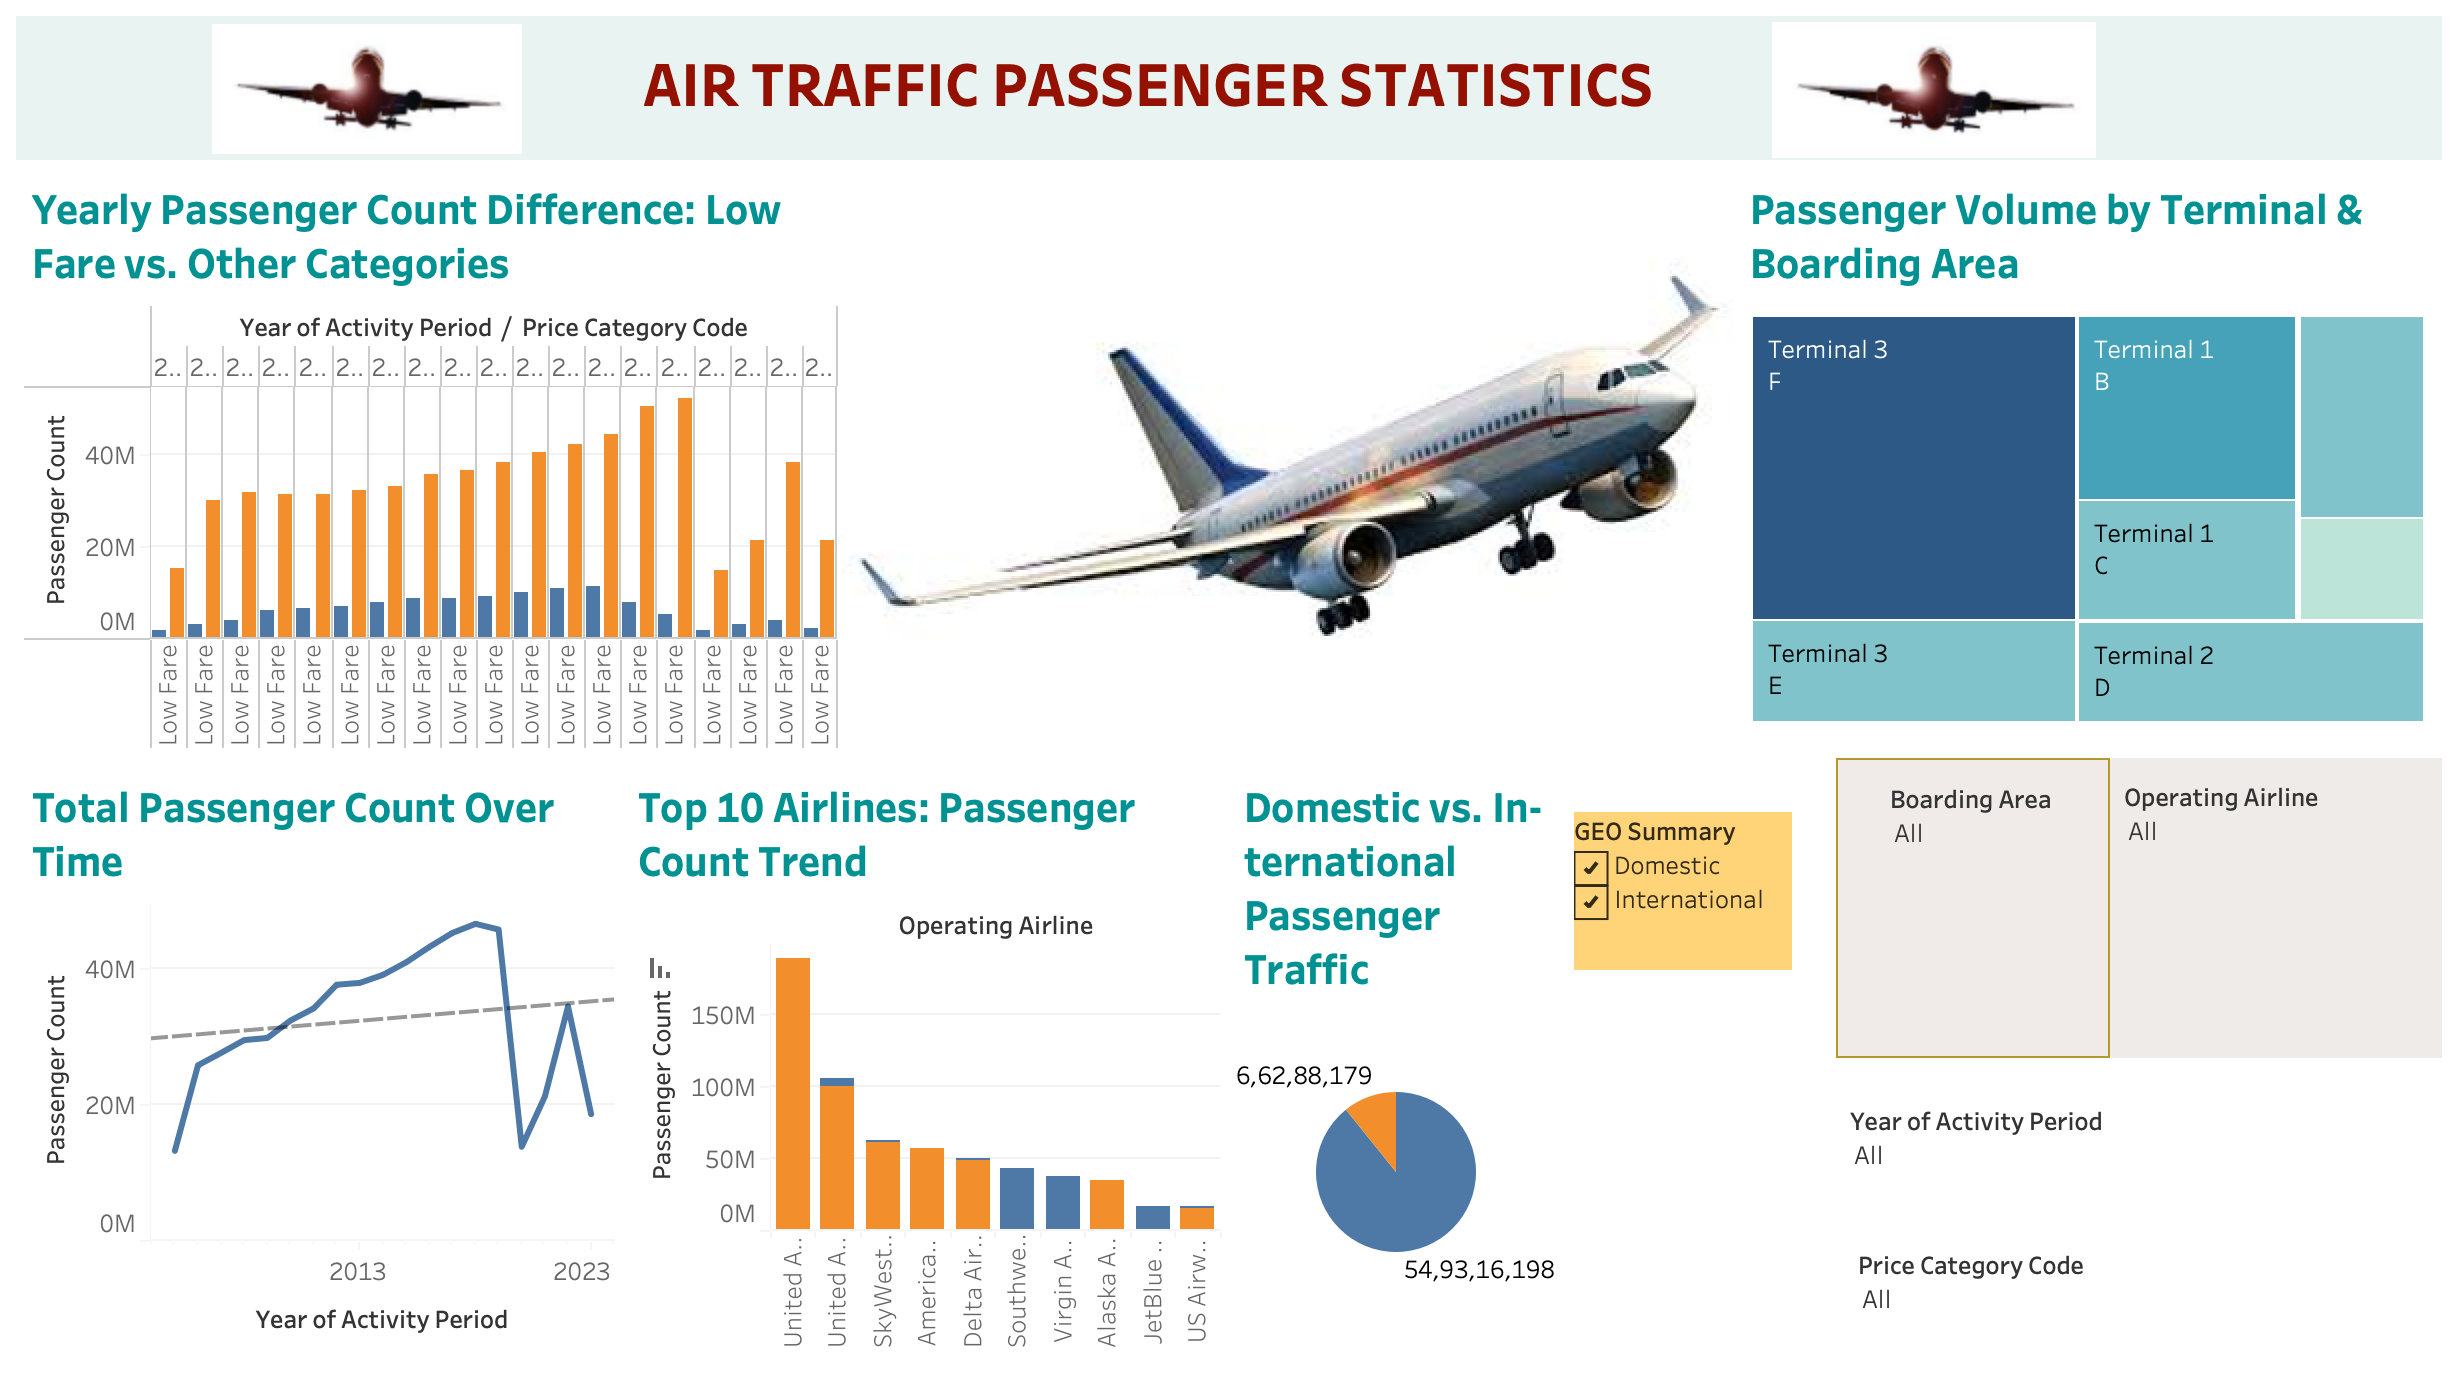

This screenshot's page, from the dashboard's own definition file:
{"tool":"tableau","page":{"name":"Dashboard 1","canvas":[1000,1000],"units":"permille","ordinal":0},"visuals":[{"type":"image","param":"Image/title.jpeg","box":[713.6,15.7,146.5,98.6]},{"type":"image","param":"Image/title.jpeg","box":[50.5,17.1,197.7,94.3]},{"type":"text","box":[258.8,30,444.3,65.7]},{"type":"worksheet","title":"Sheet 2","mark":"Bar","rows":["Passenger_Count"],"cols":["Activity_Period","Price_Category_Code"],"box":[6.5,115.7,338.5,435.7]},{"type":"image","box":[345,115.7,360.4,435.7]},{"type":"worksheet","title":"Sheet 5","mark":"Automatic","box":[705.4,115.7,288.1,436.4]},{"type":"image","param":"Image/download.jpeg","box":[342.6,120,363.7,424.3]},{"type":"worksheet","title":"Sheet 1","mark":"Automatic","rows":["Passenger_Count"],"cols":["Activity_Period"],"box":[6.5,551.4,246.5,437.1]},{"type":"worksheet","title":"Sheet 3","mark":"Automatic","rows":["Passenger_Count"],"cols":["Operating_Airline"],"box":[253.2,552.1,246.8,436.4]},{"type":"worksheet","title":"Sheet 4","mark":"Pie","box":[500,552.1,246.7,415.7]},{"type":"filter","title":"Sheet 5","param":"[federated.0gs0ubm0xcg9fi1e5t2z6010iam9].[none:Operating_Airline:nk]","box":[864.1,565.7,134.3,128.6]},{"type":"filter","title":"Sheet 5","param":"[federated.0gs0ubm0xcg9fi1e5t2z6010iam9].[none:Boarding_Area:nk]","box":[768.9,567.1,73.2,97.1]},{"type":"filter","title":"Sheet 5","param":"[federated.0gs0ubm0xcg9fi1e5t2z6010iam9].[none:GEO_Summary:nk]","box":[640.4,591.4,88.7,114.3]},{"type":"filter","title":"Sheet 2","param":"[federated.0ir7pru1pwbcas17ug1yk0ywfkgq].[tyr:Activity_Period:ok]","box":[752.6,801.4,231.1,70]},{"type":"filter","title":"Sheet 2","param":"[federated.0ir7pru1pwbcas17ug1yk0ywfkgq].[none:Price_Category_Code:nk]","box":[755.9,907.1,227,77.1]}]}

Visuals, with their boxes on the dashboard's canvas, which has no fixed pixel size, in thousandths of its width and height (x1, y1, x2, y2). These are canvas units, not pixel positions in the 2458x1374 screenshot, which may show the page scaled, cropped or inside an application window:
image: [x1=714, y1=16, x2=860, y2=114]
image: [x1=50, y1=17, x2=248, y2=111]
text: [x1=259, y1=30, x2=703, y2=96]
"Sheet 2" worksheet (Bar marks): [x1=6, y1=116, x2=345, y2=551]
image: [x1=345, y1=116, x2=705, y2=551]
"Sheet 5" worksheet: [x1=705, y1=116, x2=994, y2=552]
image: [x1=343, y1=120, x2=706, y2=544]
"Sheet 1" worksheet: [x1=6, y1=551, x2=253, y2=988]
"Sheet 3" worksheet: [x1=253, y1=552, x2=500, y2=988]
"Sheet 4" worksheet (Pie marks): [x1=500, y1=552, x2=747, y2=968]
"Sheet 5" filter: [x1=864, y1=566, x2=998, y2=694]
"Sheet 5" filter: [x1=769, y1=567, x2=842, y2=664]
"Sheet 5" filter: [x1=640, y1=591, x2=729, y2=706]
"Sheet 2" filter: [x1=753, y1=801, x2=984, y2=871]
"Sheet 2" filter: [x1=756, y1=907, x2=983, y2=984]
